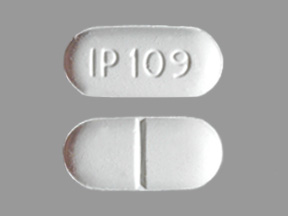Acetaminophen 325 MG Oral Tablet: (60, 21, 227, 106), (59, 114, 228, 195)
